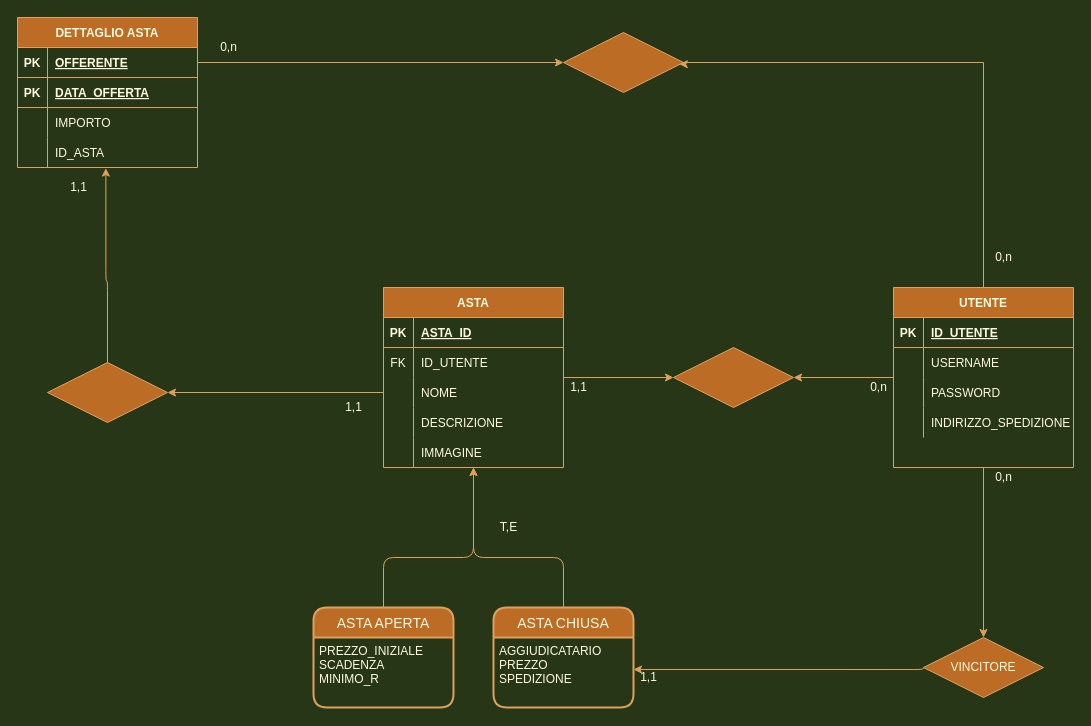
Image size: 1091x726. Some labels were removed from this diagram. The centre of each missing label's shape, as x and y in pixels:
DETTAGLIO: pixel 107 392
OFFERTA: pixel 623 62
PUBBLICAZIONE: pixel 733 377
